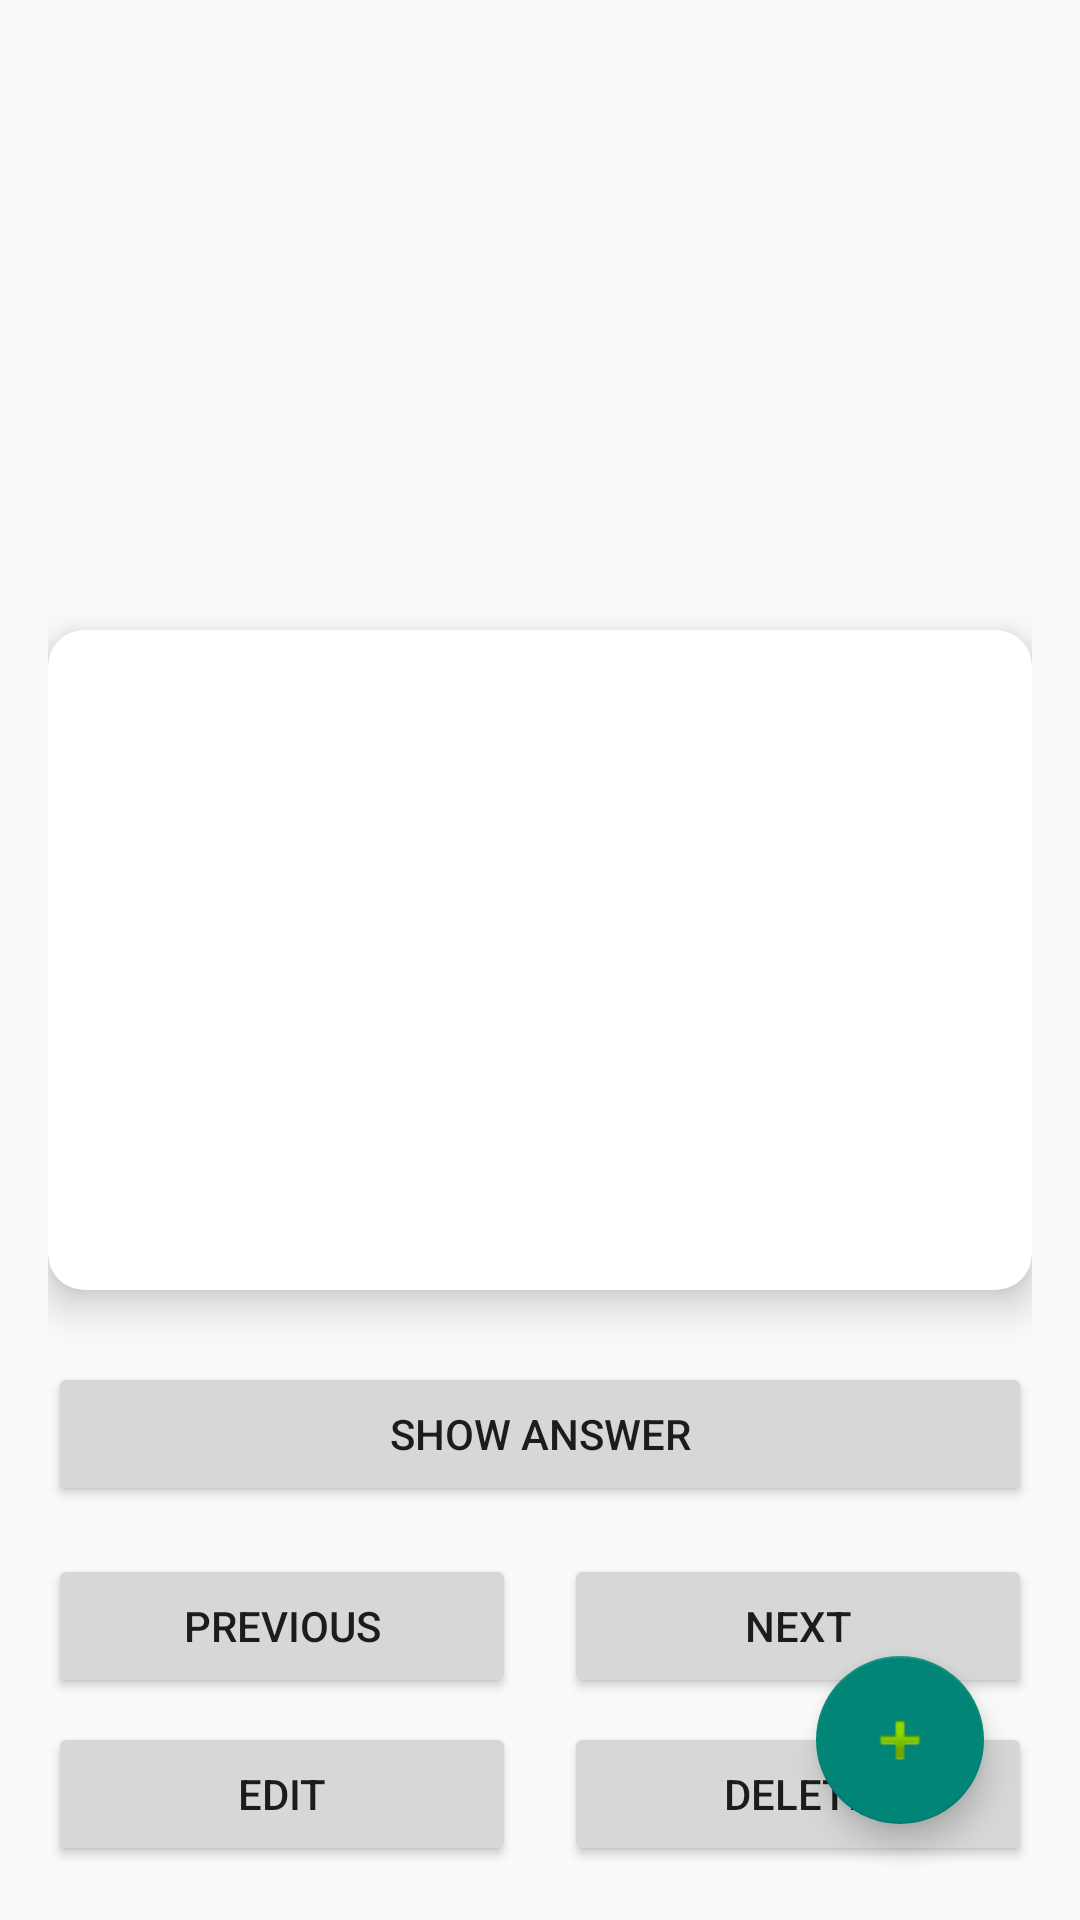

Screen size 1080 × 1920. Icon name, then its box in pixels as [x1,y1,x2,y2]:
Add new flashcard: [816,1656,984,1824]
